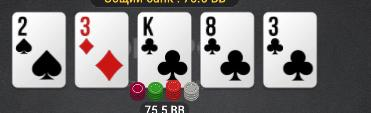2s: (13, 14, 65, 86)
3c: (265, 14, 314, 86)
3d: (77, 14, 127, 86)
8c: (201, 14, 252, 86)
Kc: (140, 13, 190, 85)
